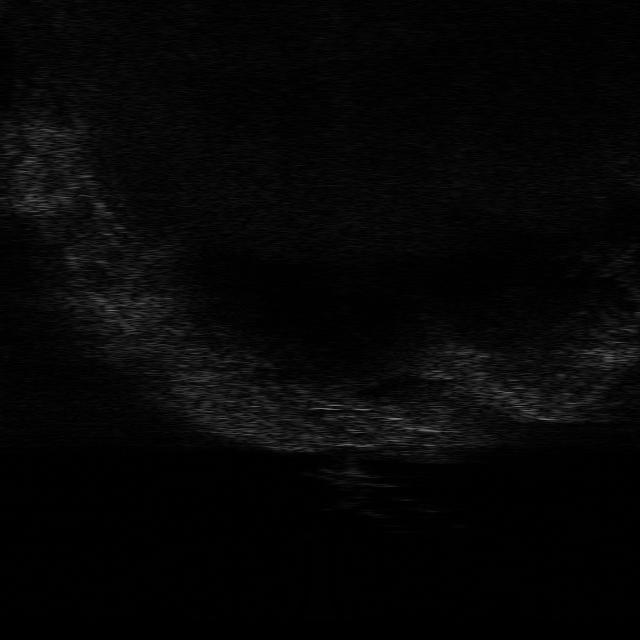plane: (302, 464, 398, 492)
